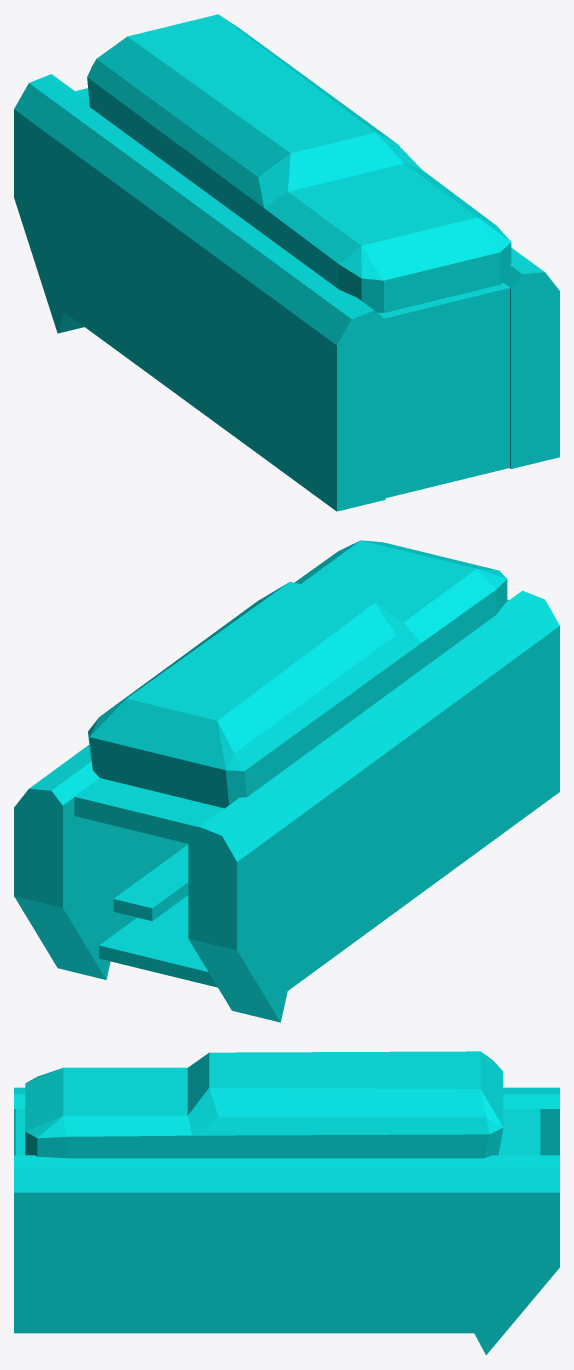
Rendered from SM_Veh_Truck_01_Module_01_Collision.fbx.
3 renders of one model, top to bottom at view 1: azimuth 30°, elevation 25°; view 2: azimuth 150°, elevation 25°; view 3: azimuth 270°, elevation 25°, orthographic. The views are drawn at different scales.
Visible parts, largest first — view 1: SM_Veh_Truck_01_Module_01_Collision; view 2: SM_Veh_Truck_01_Module_01_Collision; view 3: SM_Veh_Truck_01_Module_01_Collision.
Boxes of the visible parts, x1,y1,x2,y2 form: SM_Veh_Truck_01_Module_01_Collision: (14, 14, 559, 511); SM_Veh_Truck_01_Module_01_Collision: (14, 540, 559, 1022); SM_Veh_Truck_01_Module_01_Collision: (14, 1051, 559, 1355).
Size of the model in its own units: 284 by 345 by 713.
